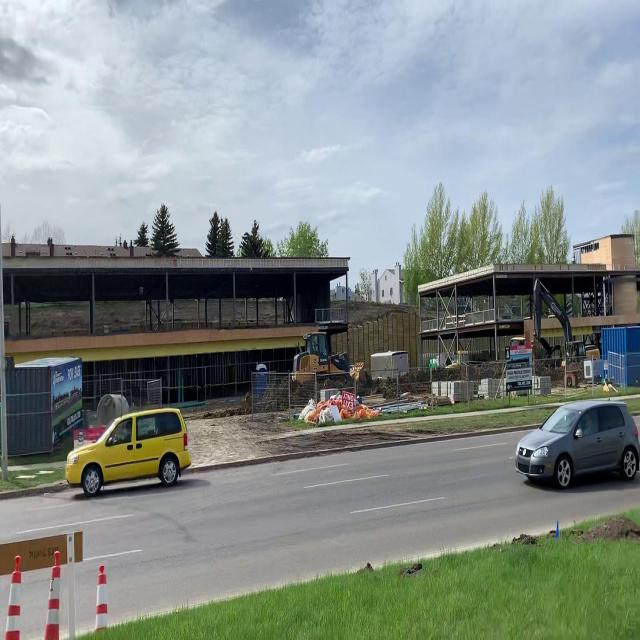Excavator: (529, 276, 600, 383)
Loader: (289, 318, 366, 390)
